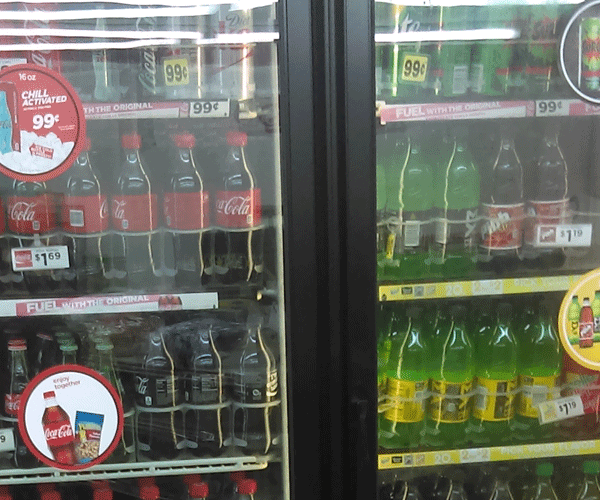Plastic bottle: (152, 126, 227, 301), (94, 129, 169, 300), (202, 125, 269, 294), (123, 312, 195, 469), (177, 303, 241, 467), (221, 314, 283, 465)
